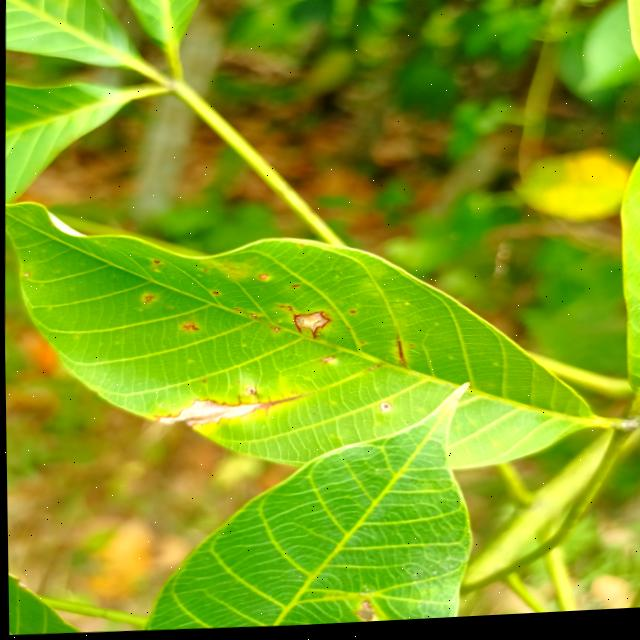Colletotrichum: (377, 404, 390, 415), (257, 276, 268, 282), (234, 309, 240, 314), (211, 293, 217, 297), (348, 313, 354, 317), (153, 261, 159, 265)
Corynespora: (150, 395, 304, 434), (291, 313, 330, 344), (393, 338, 407, 373)
Leaf-Blight: (159, 399, 258, 430), (294, 315, 327, 335)
